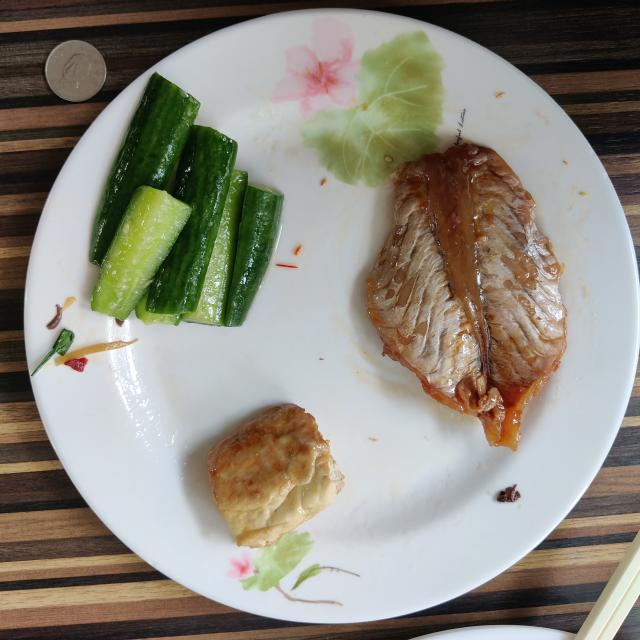Kabayaki sea bream fillet: (368, 144, 566, 450)
coin: (45, 40, 106, 101)
cucumber: (89, 72, 284, 326)
